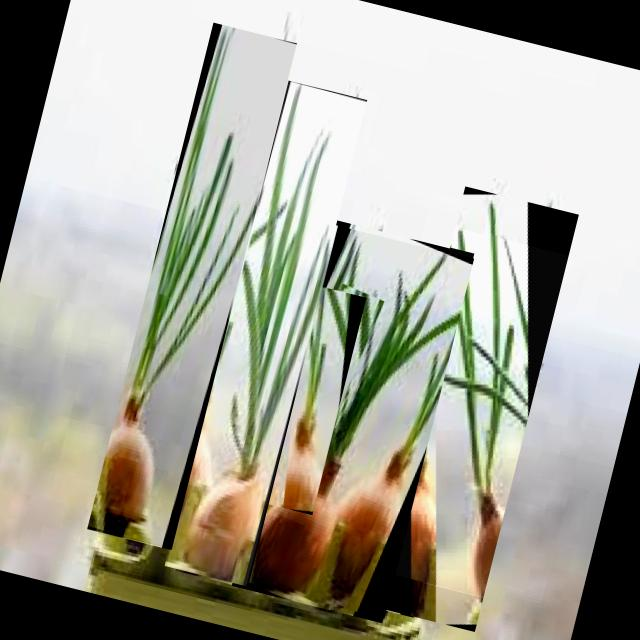rotten: (363, 493, 444, 603)
sprouting: (103, 28, 258, 535), (251, 246, 460, 591), (184, 83, 327, 579), (421, 227, 504, 597), (258, 287, 324, 508), (462, 208, 489, 347)
